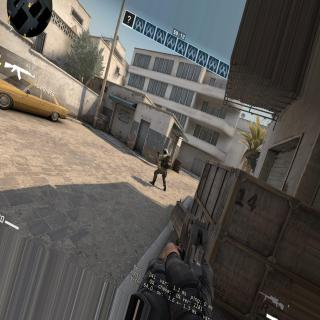CT-Body: (158, 148, 170, 182)
CT-Head: (162, 148, 167, 156)
